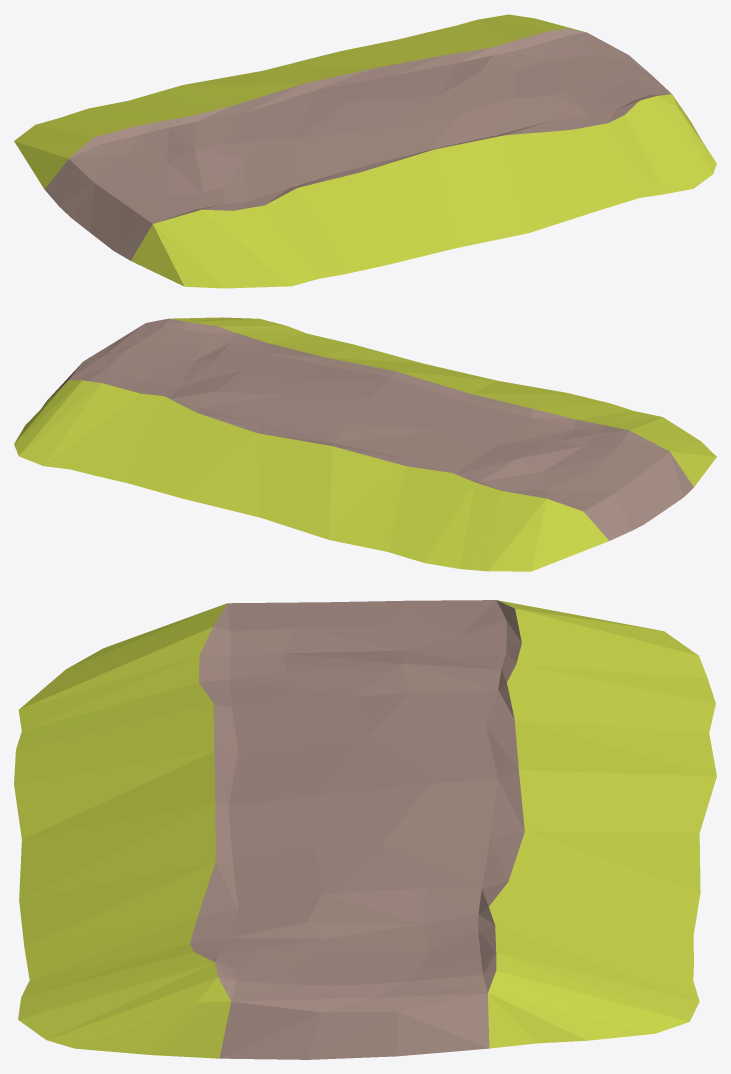
Rendered from Road_012.glb.
3 renders of one model, top to bottom at view 1: azimuth 30°, elevation 25°; view 2: azimuth 150°, elevation 25°; view 3: azimuth 270°, elevation 25°, orthographic. The views are drawn at different scales.
Parts seen in each view (by area): view 1: Road_012; view 2: Road_012; view 3: Road_012.
Part boxes in pixels (x1=…): Road_012: x1=14, y1=14, x2=716, y2=288; Road_012: x1=14, y1=317, x2=716, y2=571; Road_012: x1=14, y1=600, x2=716, y2=1059.
Bounding box in the file's own units: 43.54 × 3.64 × 29.32.
Materials: 1 (1 with a texture image).
